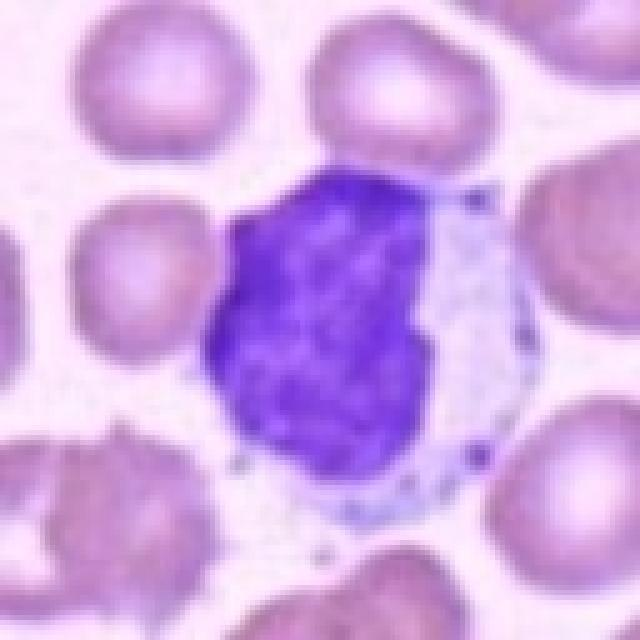lympho: (185, 157, 549, 538)
